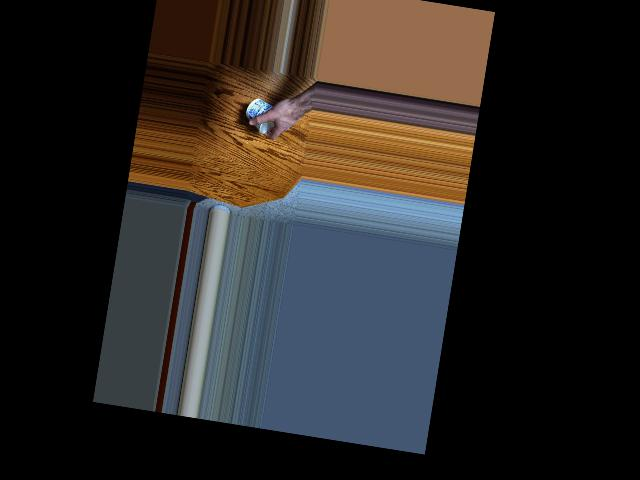cotage: (246, 93, 283, 135)
